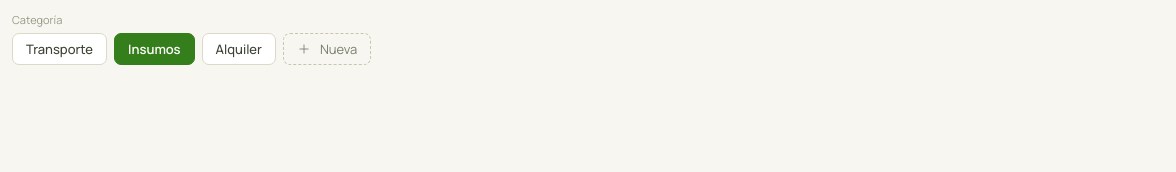
it: CategoryChips › adding a category without leaving the form › backs out on Cancelar
Click the button "Nueva" at point(327, 49), box [283,33,371,65]
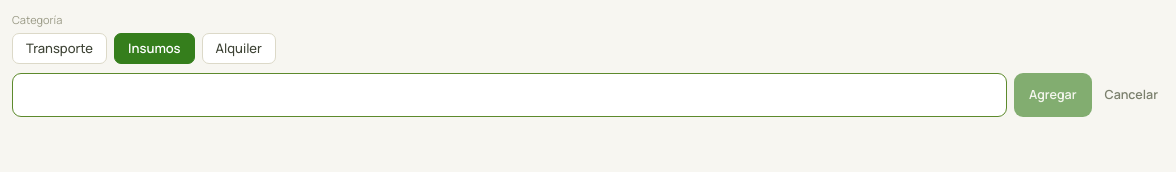
Type "Mantenimiento" into the field named "Nombre de la nueva categoría" at point(510, 95), box [12,73,1007,118]
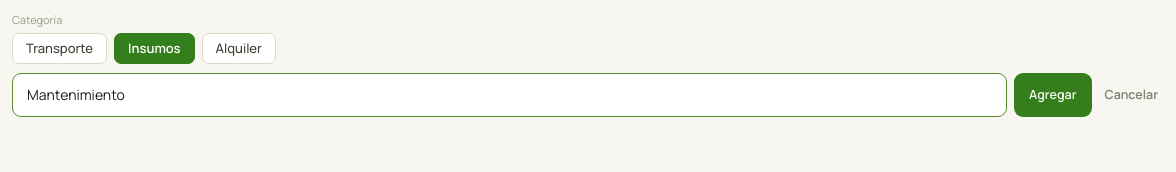
Click the button "Cancelar" at point(1131, 95), box [1098,73,1164,118]
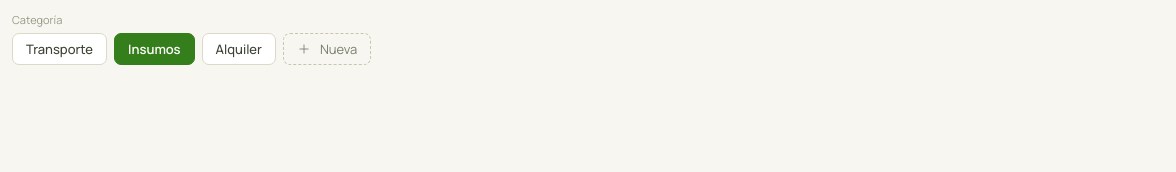
expect the button "Nueva" is shown: met, box [283,33,371,65]
